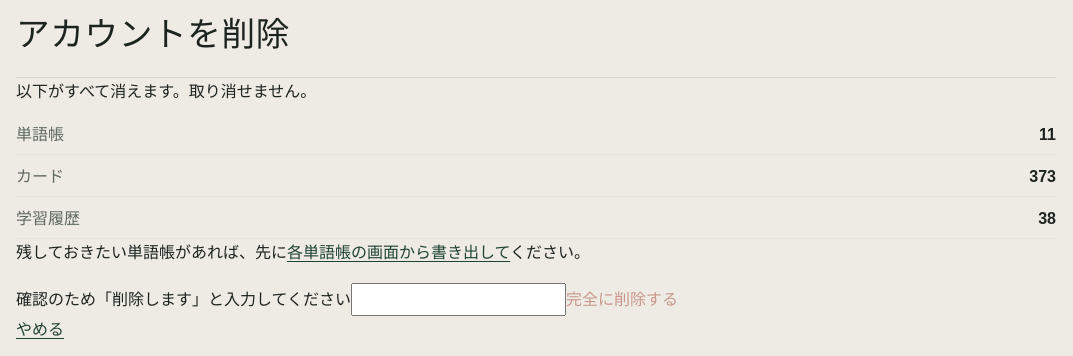
Scenario: AccountDeleteScreen › 文言が一致したら削除を送る
Type "削除します" into the field labelled "確認のため「削除します」と入力してください".
click(459, 299); type("削除します")  # box [351,283,566,316]
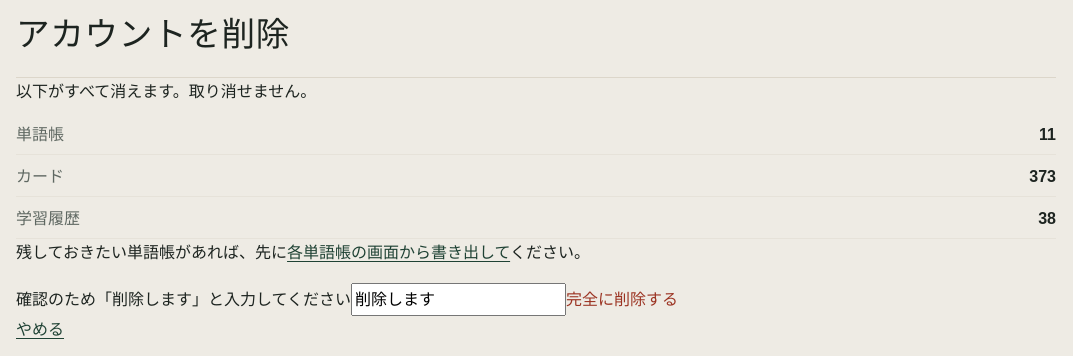
Click the button "完全に削除する".
click(622, 299)  # box [566,286,678,313]
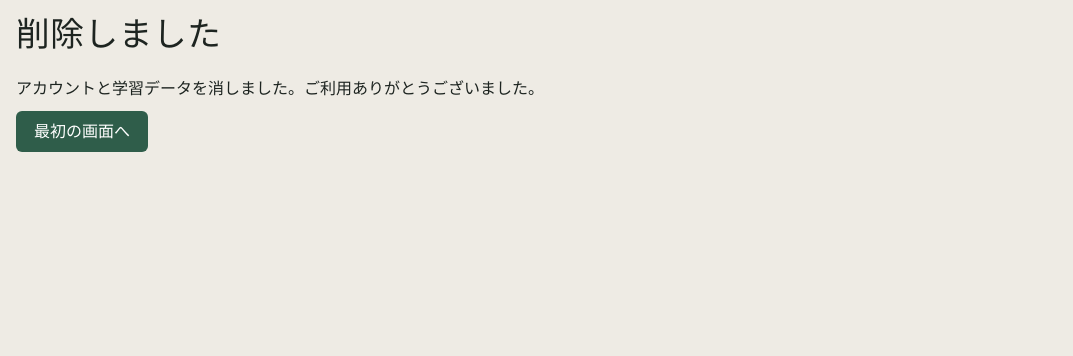
Expected: the heading "削除しました" is shown, [16,16,222,53]
